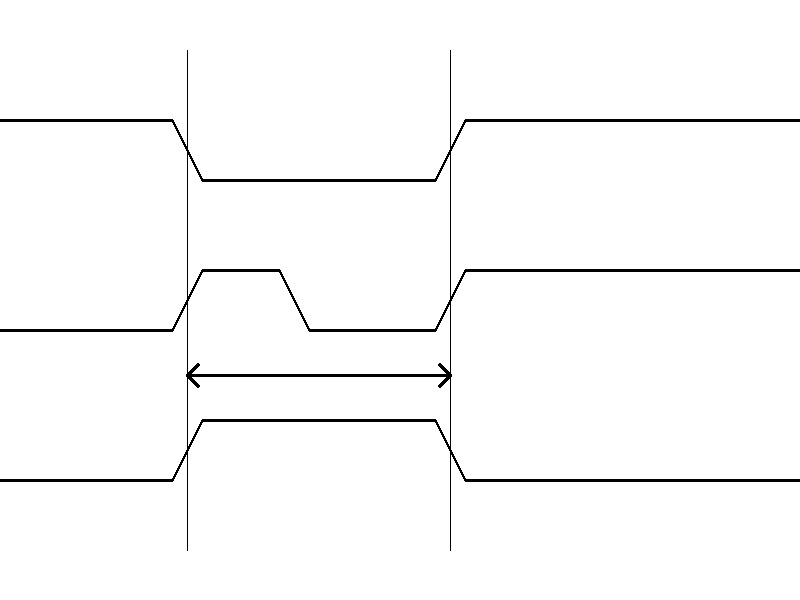double_arrow: (187, 360, 450, 390)
